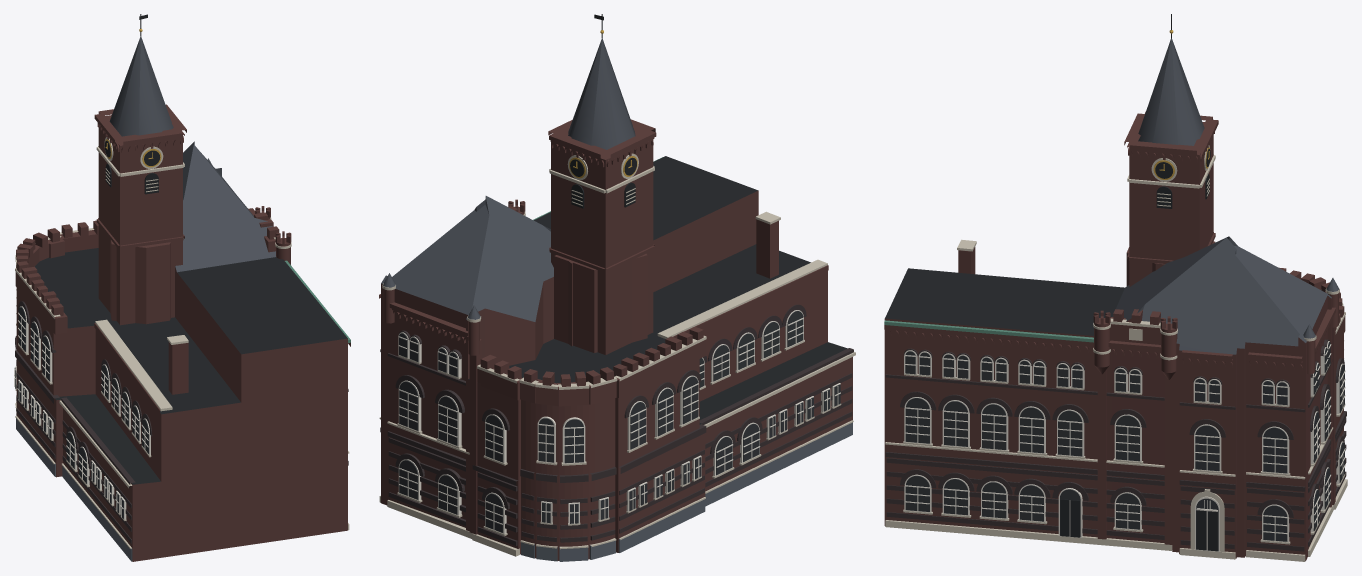
File: politiebureau-raampoort.glb
3 views of the same model, side by side, from view 1: azimuth 30°, elevation 25°; view 2: azimuth 150°, elevation 25°; view 3: azimuth 270°, elevation 25° (orthographic). The views are drawn at different scales.
Parts seen in each view (by area): view 1: politiebureau-raampoort; view 2: politiebureau-raampoort; view 3: politiebureau-raampoort.
Part boxes in pixels (x1,y1,x2,y2): politiebureau-raampoort: [14, 14, 350, 561]; politiebureau-raampoort: [379, 14, 855, 561]; politiebureau-raampoort: [884, 14, 1347, 561].
Size of the model in its own units: 18.97 by 29.75 by 26.43.
